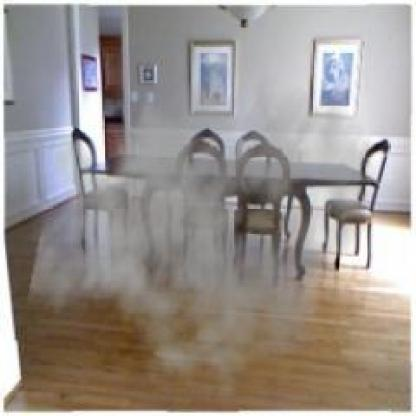Smoke: (27, 40, 379, 400)
